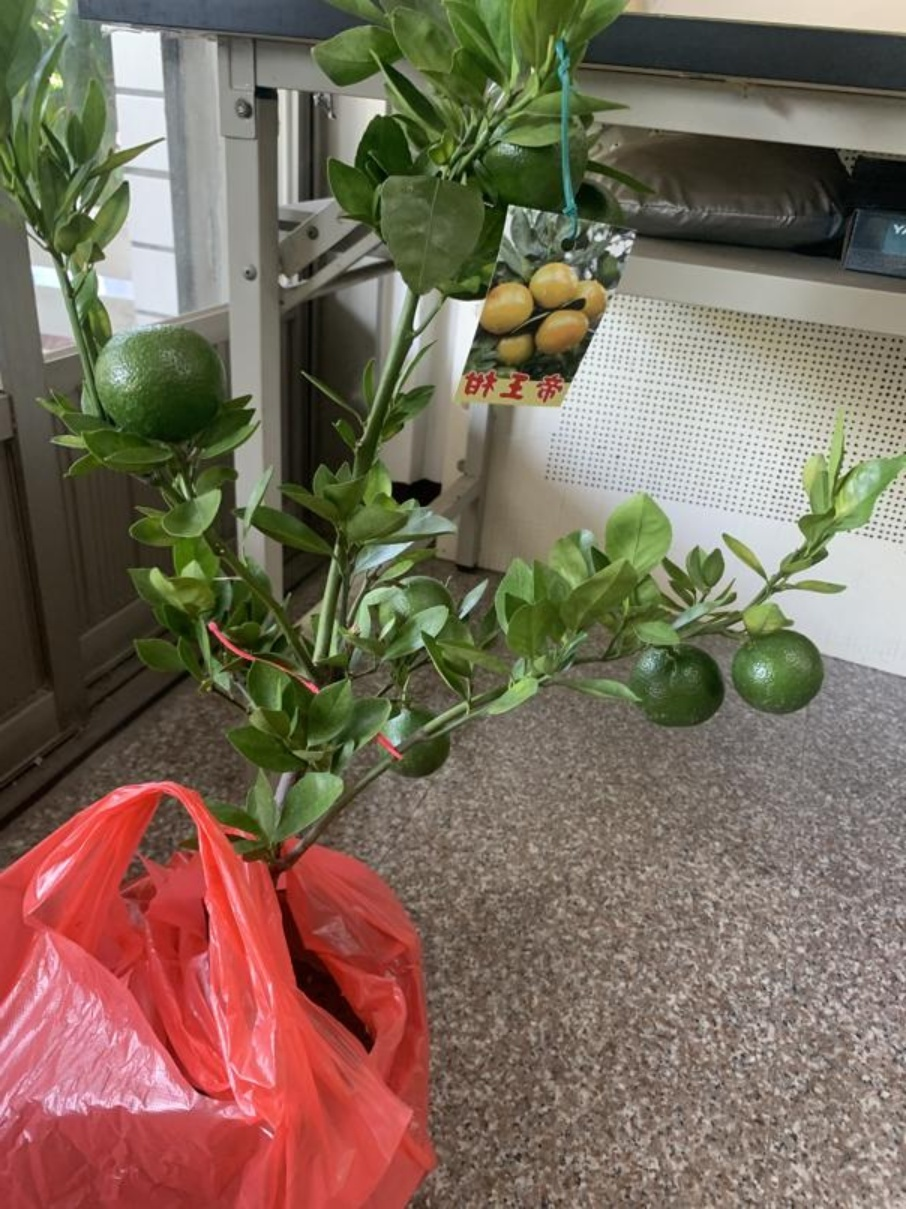Tangerine: (94, 320, 224, 448), (629, 637, 730, 730), (731, 623, 826, 717)
